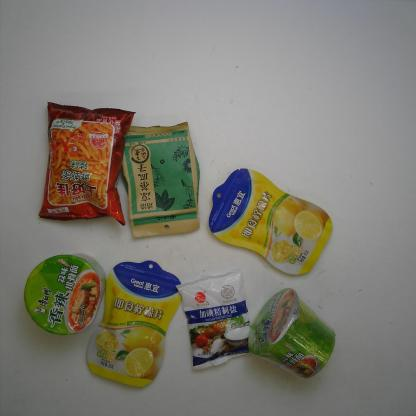Dried Food: (119, 121, 200, 239)
Dried Fruit: (209, 168, 333, 275), (86, 261, 181, 388)
Instant Noodles: (249, 288, 336, 379), (24, 253, 108, 336)
Puffed Food: (38, 101, 136, 226)
Seasoner: (175, 269, 256, 370)
